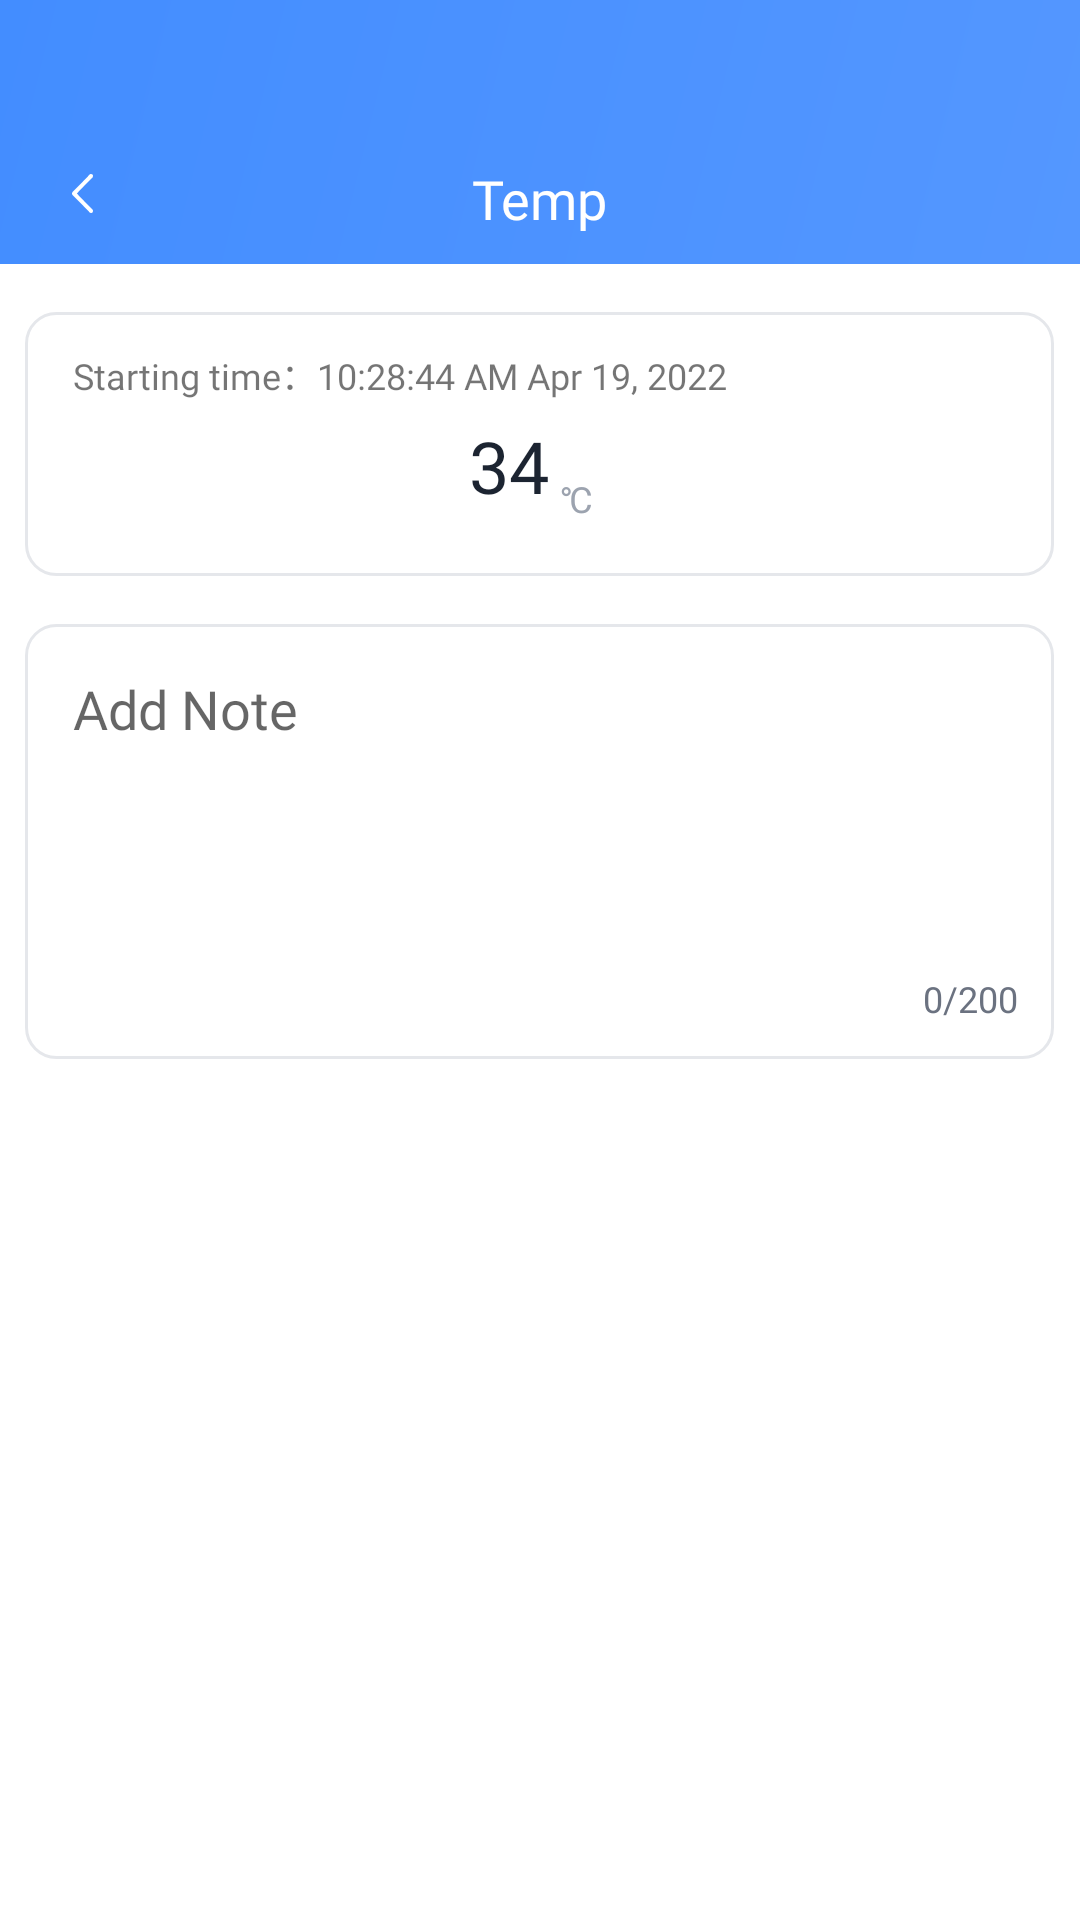

Locate icon controls on the screen. Image size 1080×1920, boxes as (x1,y1,x2,y2).
left: (72,174,93,213)
